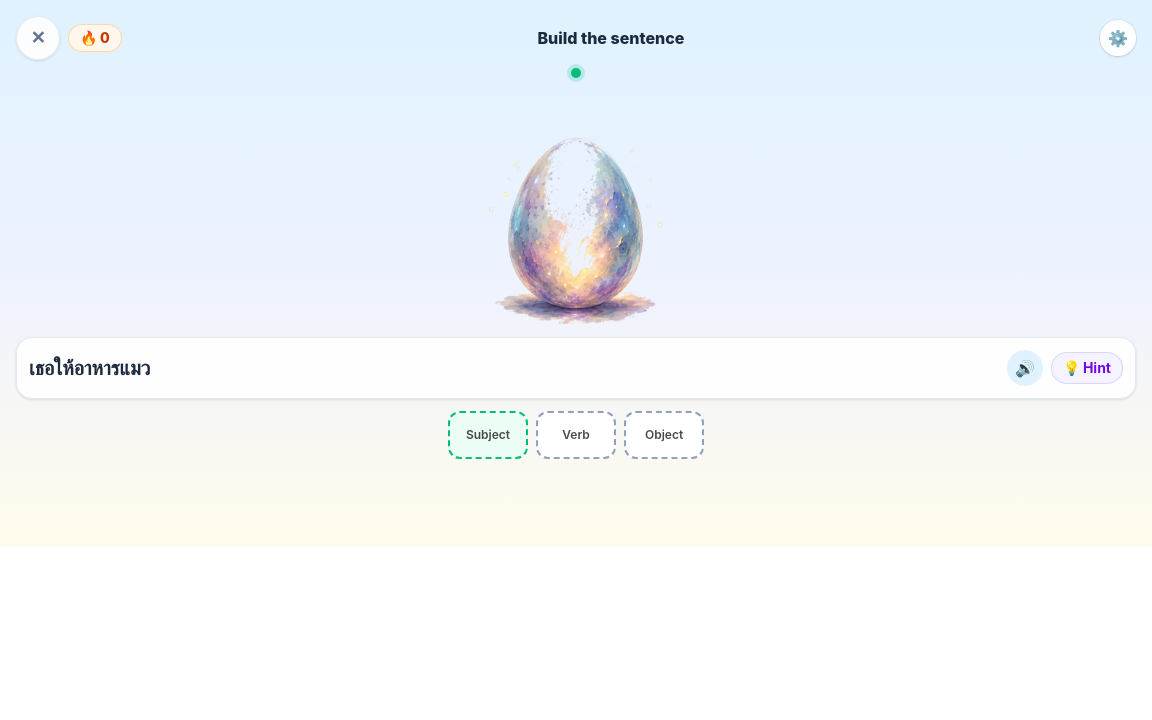
Test case: DrillScreen › exit ✕ opens a confirm; Stay keeps the drill mounted
The image size is (1152, 720).
Click the button named "leave lesson": (38, 38) [16,16,60,60]
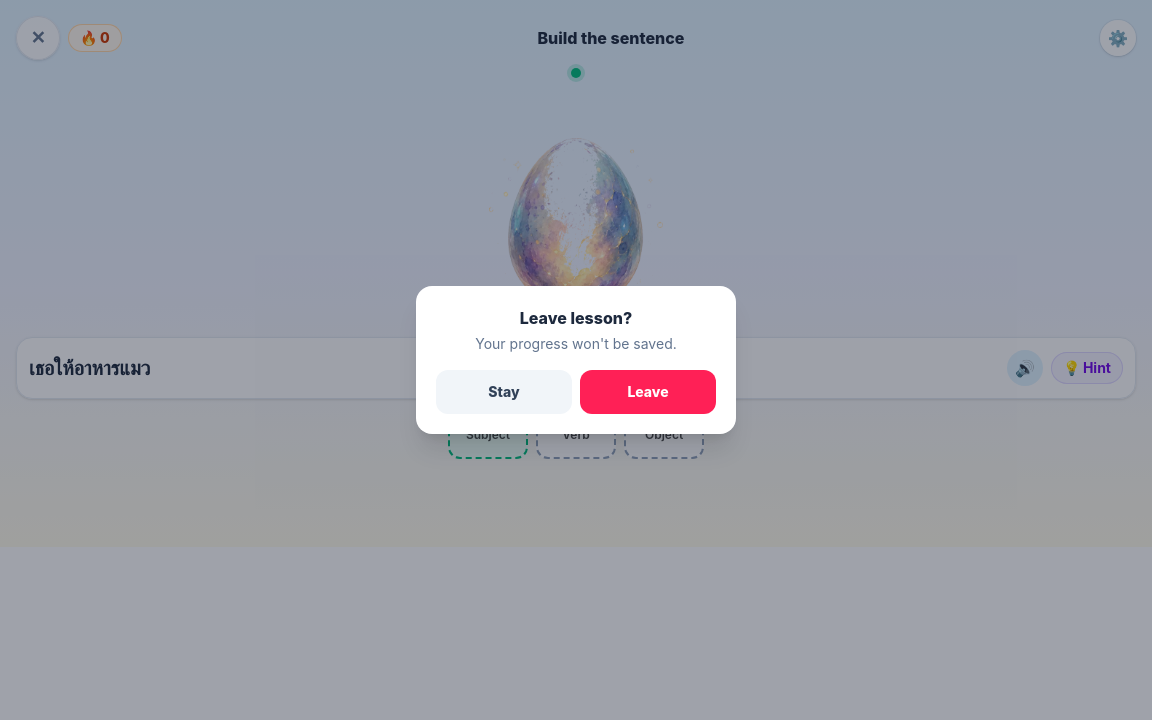
Now the text "Your progress won't be saved." is shown, box [475,335,677,352]
Click the button "Stay": (504, 392) [436,370,572,414]
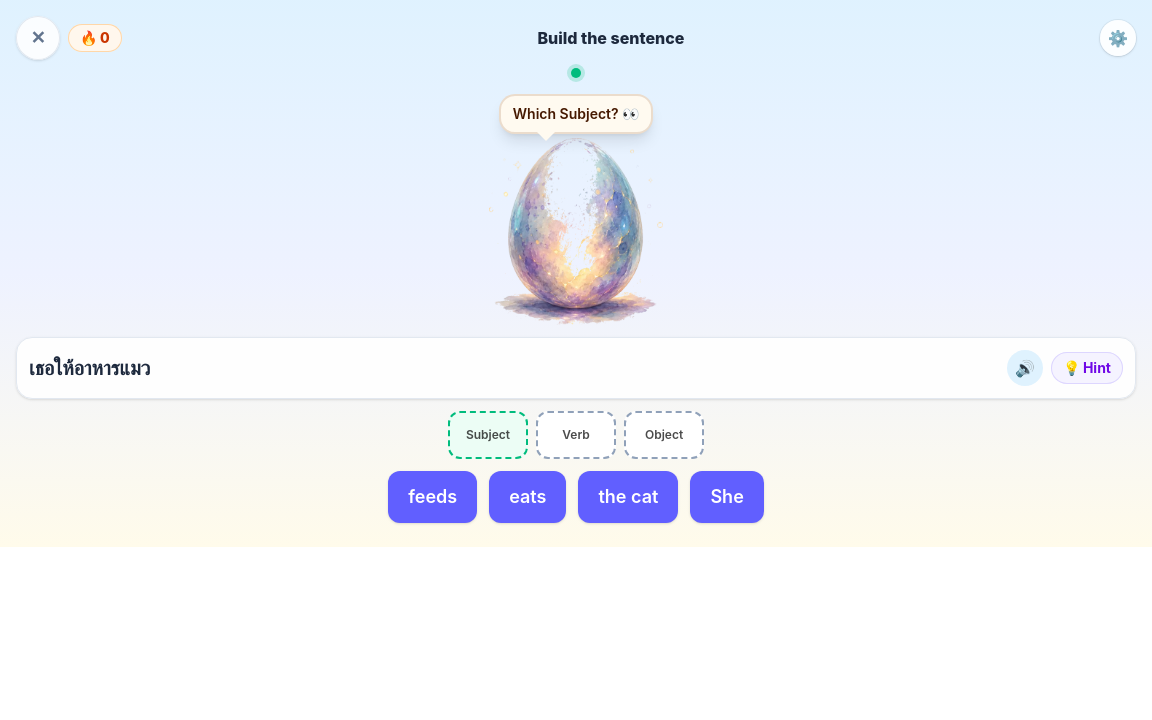
Now the text "won't be saved" is gone
